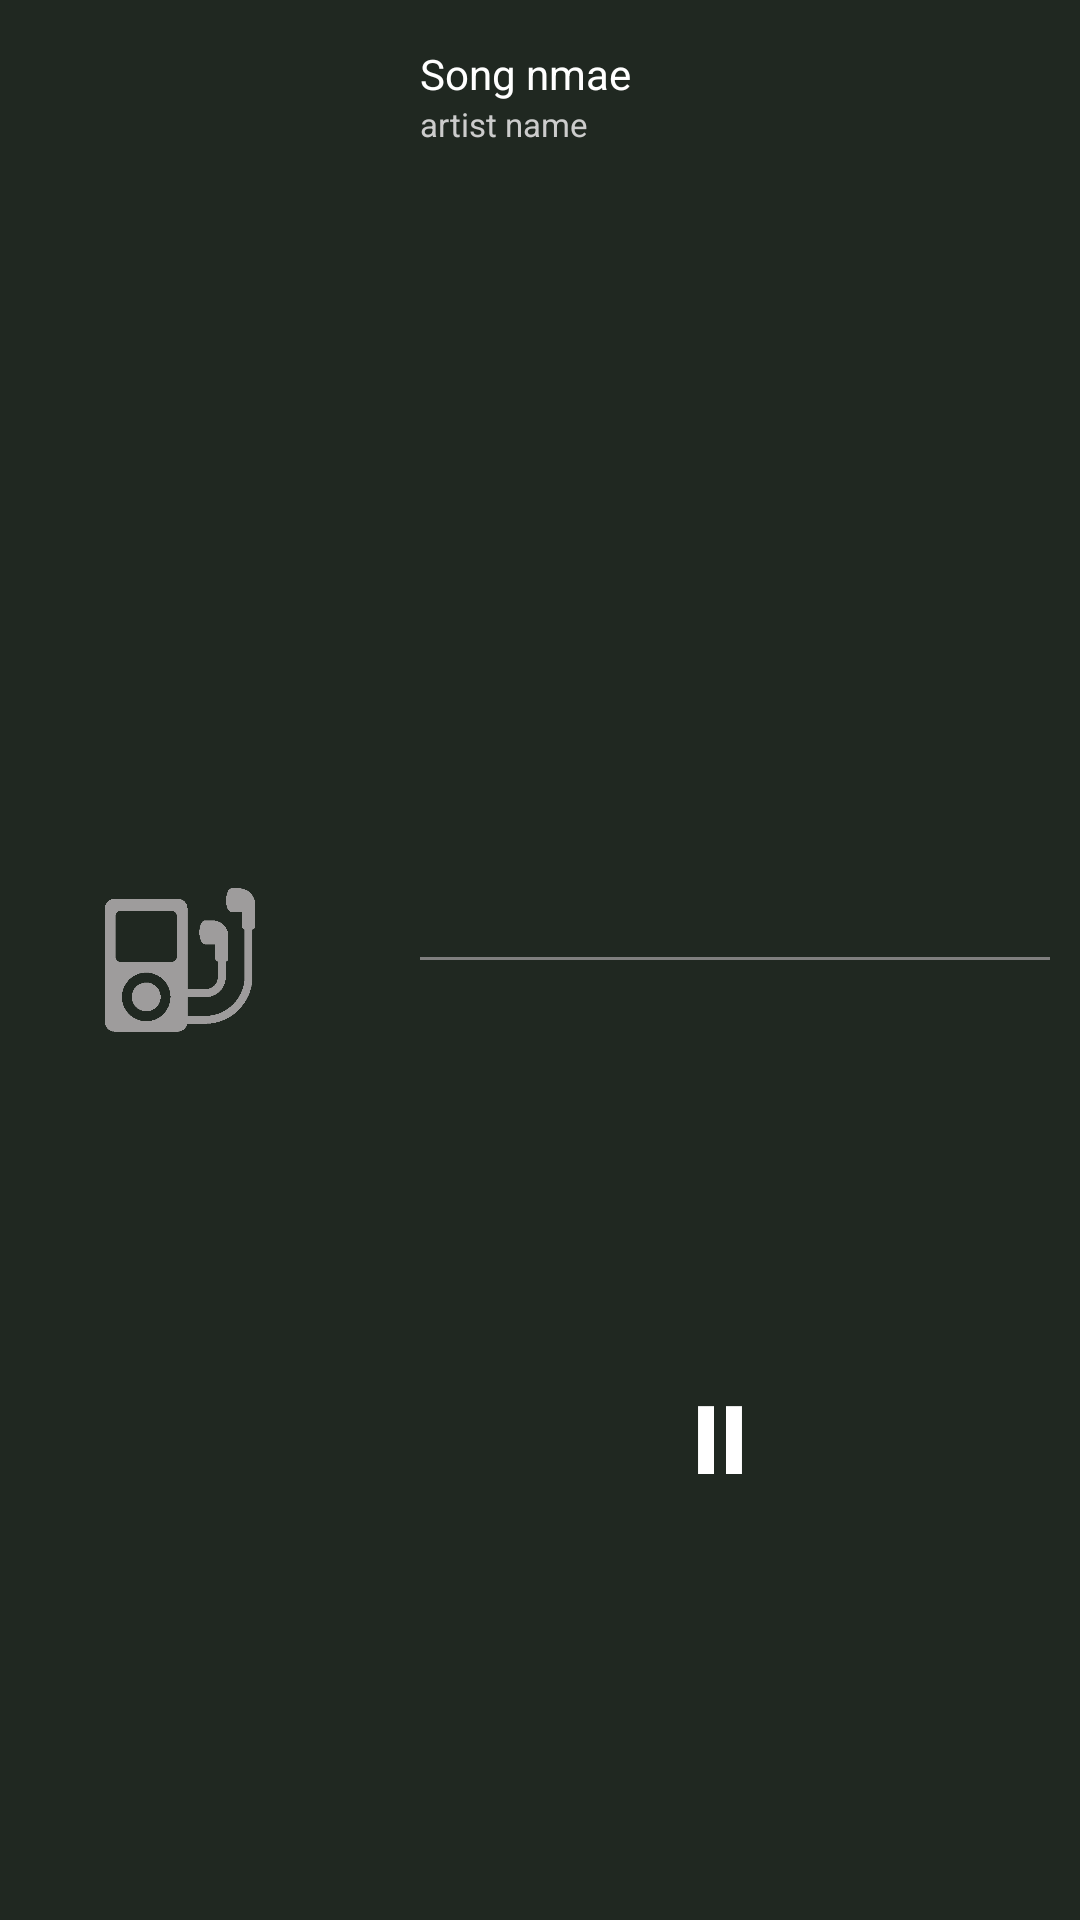

Screen size 1080 x 1920. Icon name, then its box in pixels as (x1, y1, x2, y2):
pause: (698, 1406, 742, 1474)
